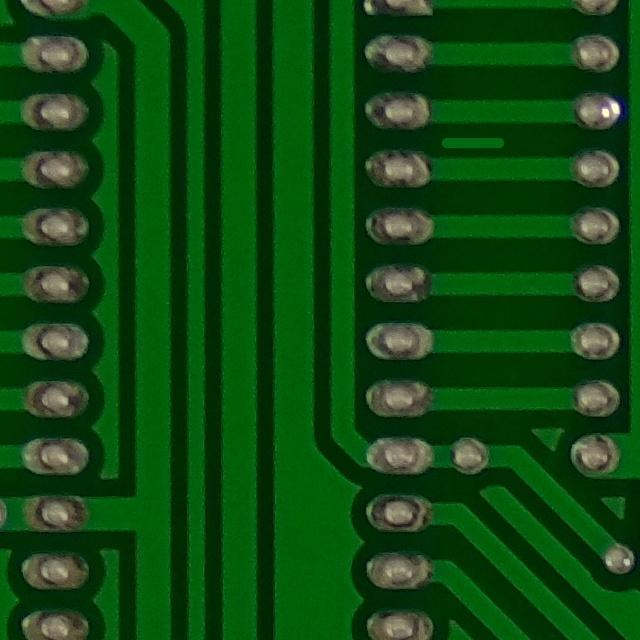spurious_copper: (431, 122, 517, 161)
